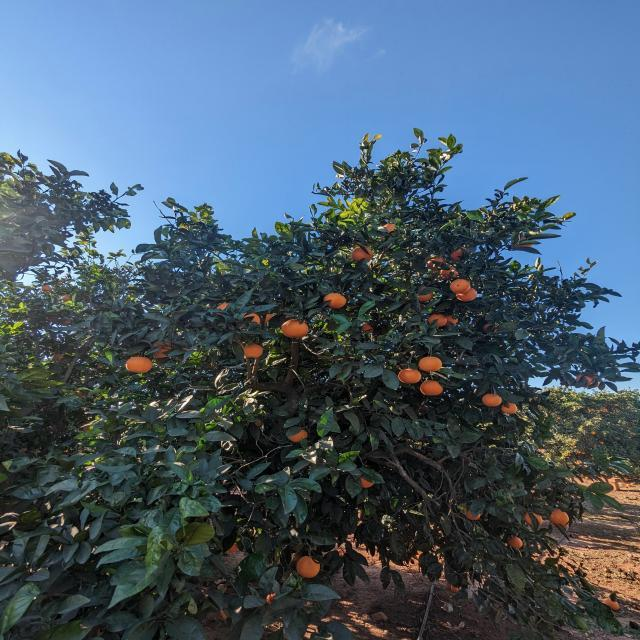Jeruk Sudah Matang: (297, 554, 325, 580), (122, 355, 154, 375), (280, 319, 311, 339), (149, 339, 178, 359), (215, 302, 242, 321), (419, 379, 446, 397), (262, 590, 288, 608), (418, 355, 443, 373), (397, 367, 422, 385), (322, 292, 348, 309), (236, 312, 262, 329), (510, 233, 534, 251), (380, 222, 402, 241), (351, 246, 374, 264), (448, 244, 470, 262), (285, 428, 310, 443), (412, 286, 435, 302), (222, 536, 242, 554), (354, 473, 378, 488), (550, 507, 570, 525), (524, 509, 545, 526), (243, 342, 264, 359), (456, 286, 478, 302), (426, 253, 446, 270), (450, 278, 472, 293), (177, 344, 200, 358), (440, 264, 460, 280), (262, 310, 282, 326), (482, 393, 503, 408), (426, 313, 446, 328), (578, 372, 596, 388), (220, 606, 240, 620), (466, 507, 486, 521), (248, 414, 265, 430), (584, 376, 604, 389), (361, 321, 378, 336), (508, 535, 526, 549), (501, 400, 518, 414), (333, 544, 346, 561), (557, 518, 574, 531), (483, 322, 498, 334), (444, 314, 461, 324), (450, 584, 464, 594), (40, 284, 51, 293), (60, 296, 74, 302), (445, 580, 454, 589), (633, 432, 638, 437), (576, 449, 580, 454), (571, 441, 576, 445), (539, 406, 544, 410), (590, 408, 596, 411), (564, 452, 568, 456), (592, 430, 596, 434), (602, 440, 606, 444), (568, 453, 572, 456), (556, 416, 560, 419), (614, 404, 620, 406), (626, 429, 630, 432), (592, 446, 596, 448), (570, 420, 574, 422), (554, 451, 556, 454), (597, 412, 600, 414), (603, 408, 606, 410), (606, 409, 609, 411)
